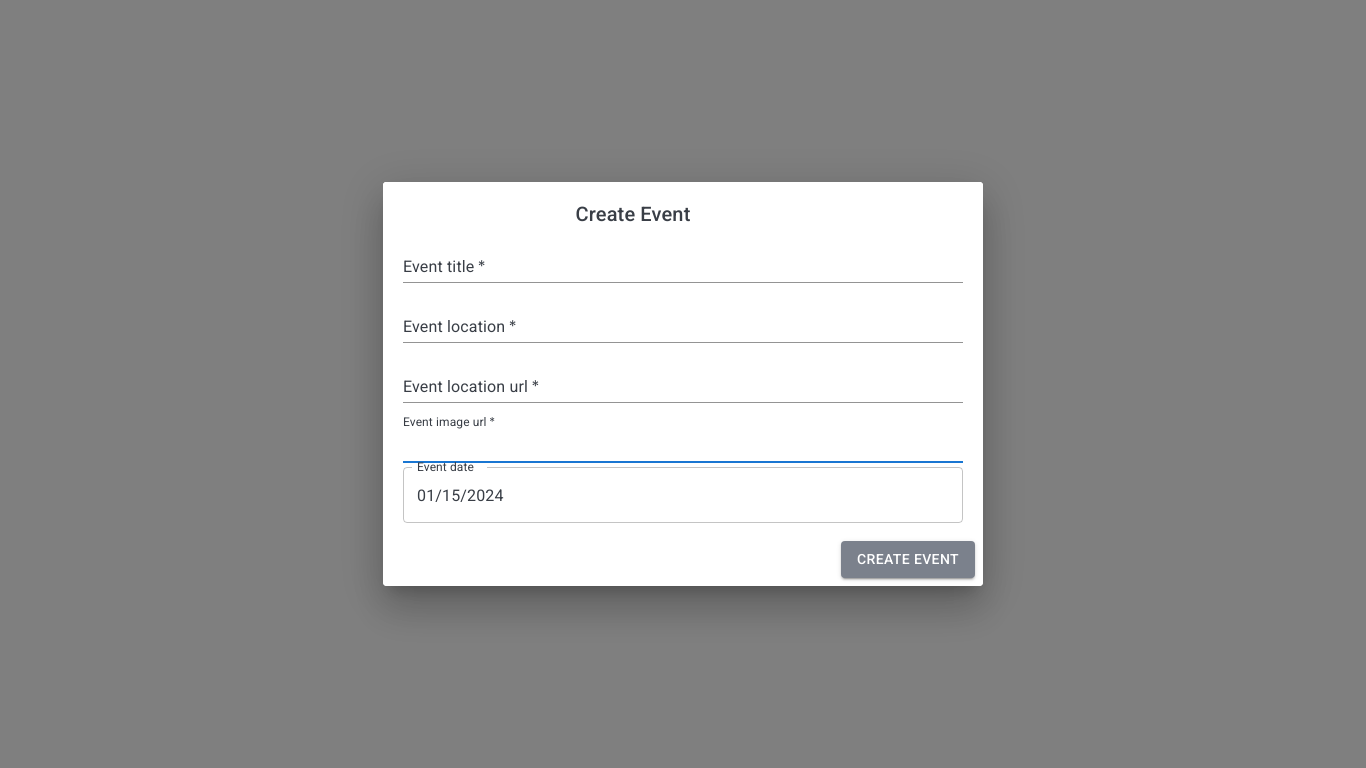
Test: Test CreateEventModal validation › should display error label when event location is less than 6 characters
Type "ABCDE" into the field with test id "event-location-input" at point(683, 327), box [403,311,963,343]
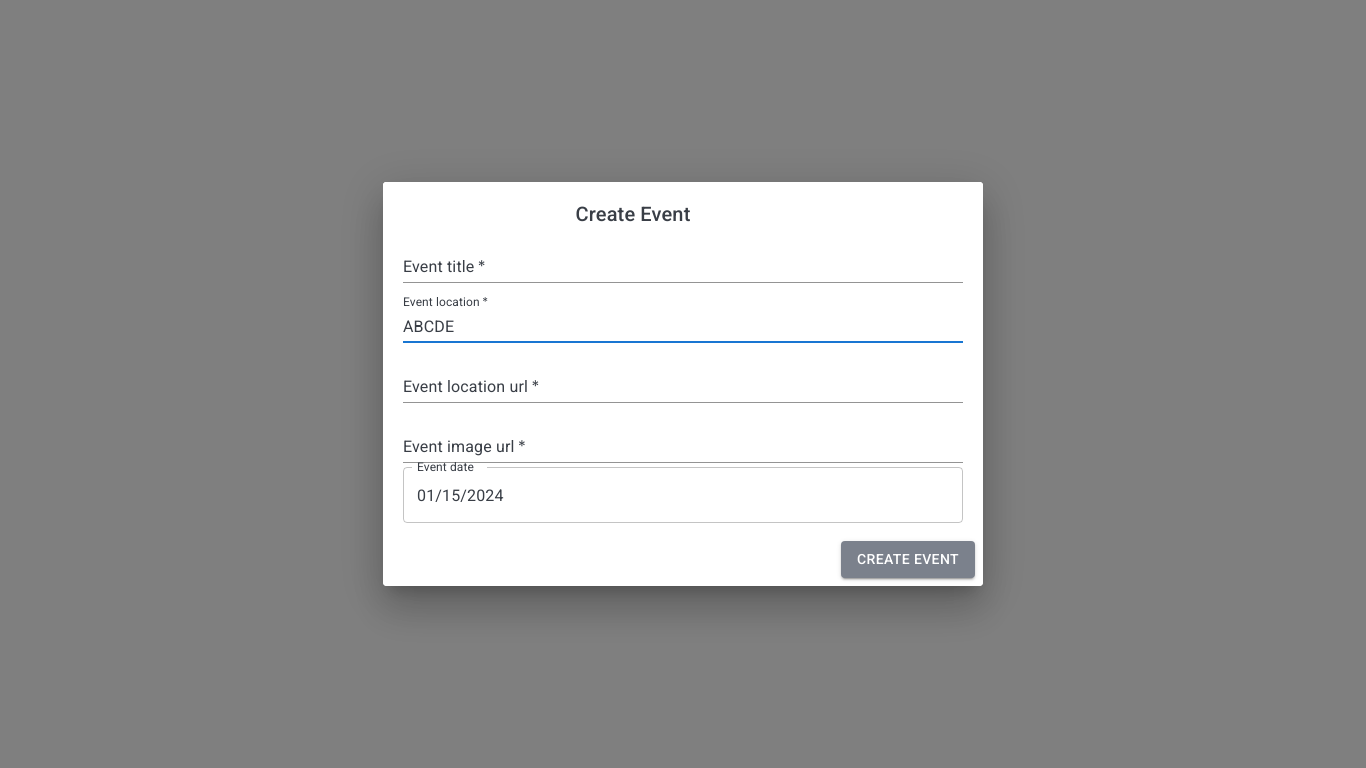
Click the button with test id "create-event-modal-button" at point(908, 560), box [841,541,975,578]
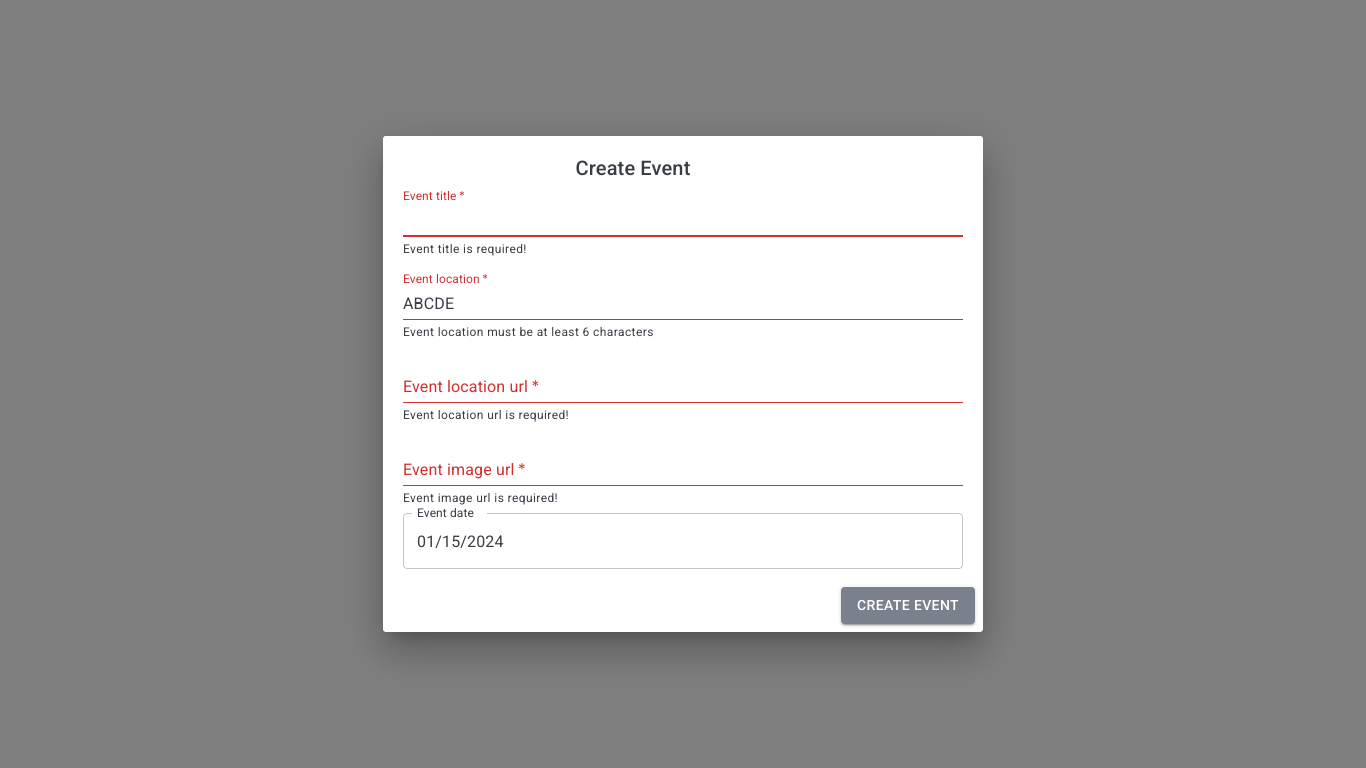
Expected: the text with id "event-location-input-helper-text" reads "Event location must be at least 6 characters", [403,325,654,339]
